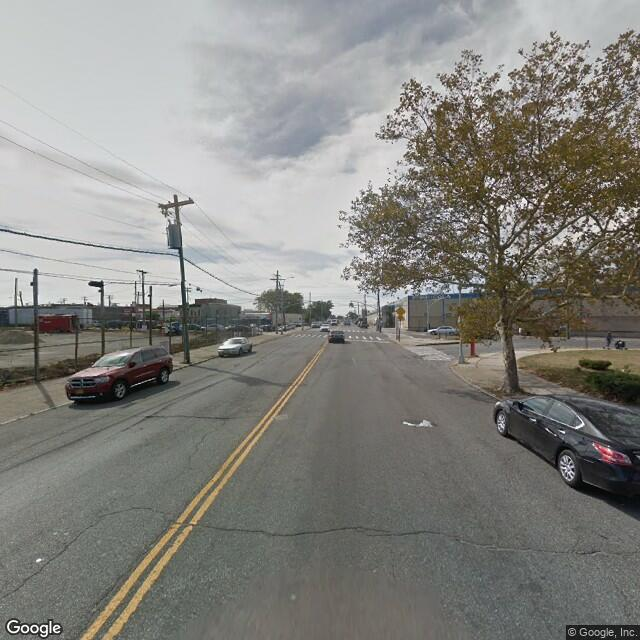litter: (402, 417, 433, 428), (35, 558, 43, 564)
